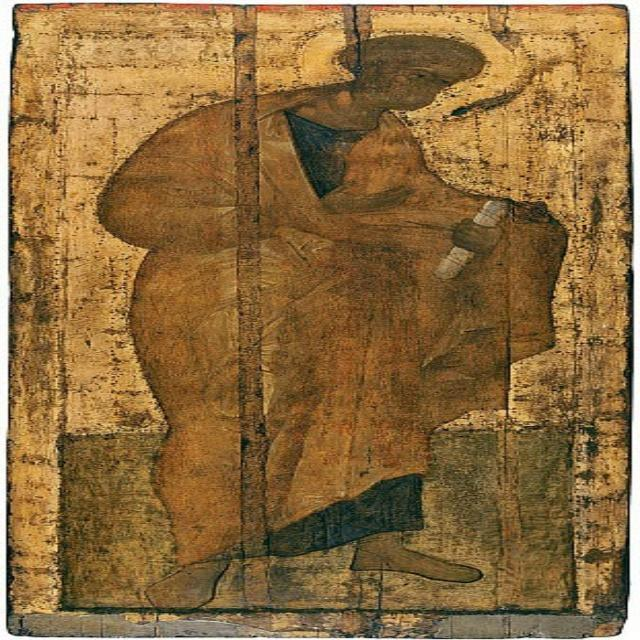aura: (296, 12, 522, 123)
saint: (105, 14, 502, 604)
scroll: (432, 198, 512, 287)
